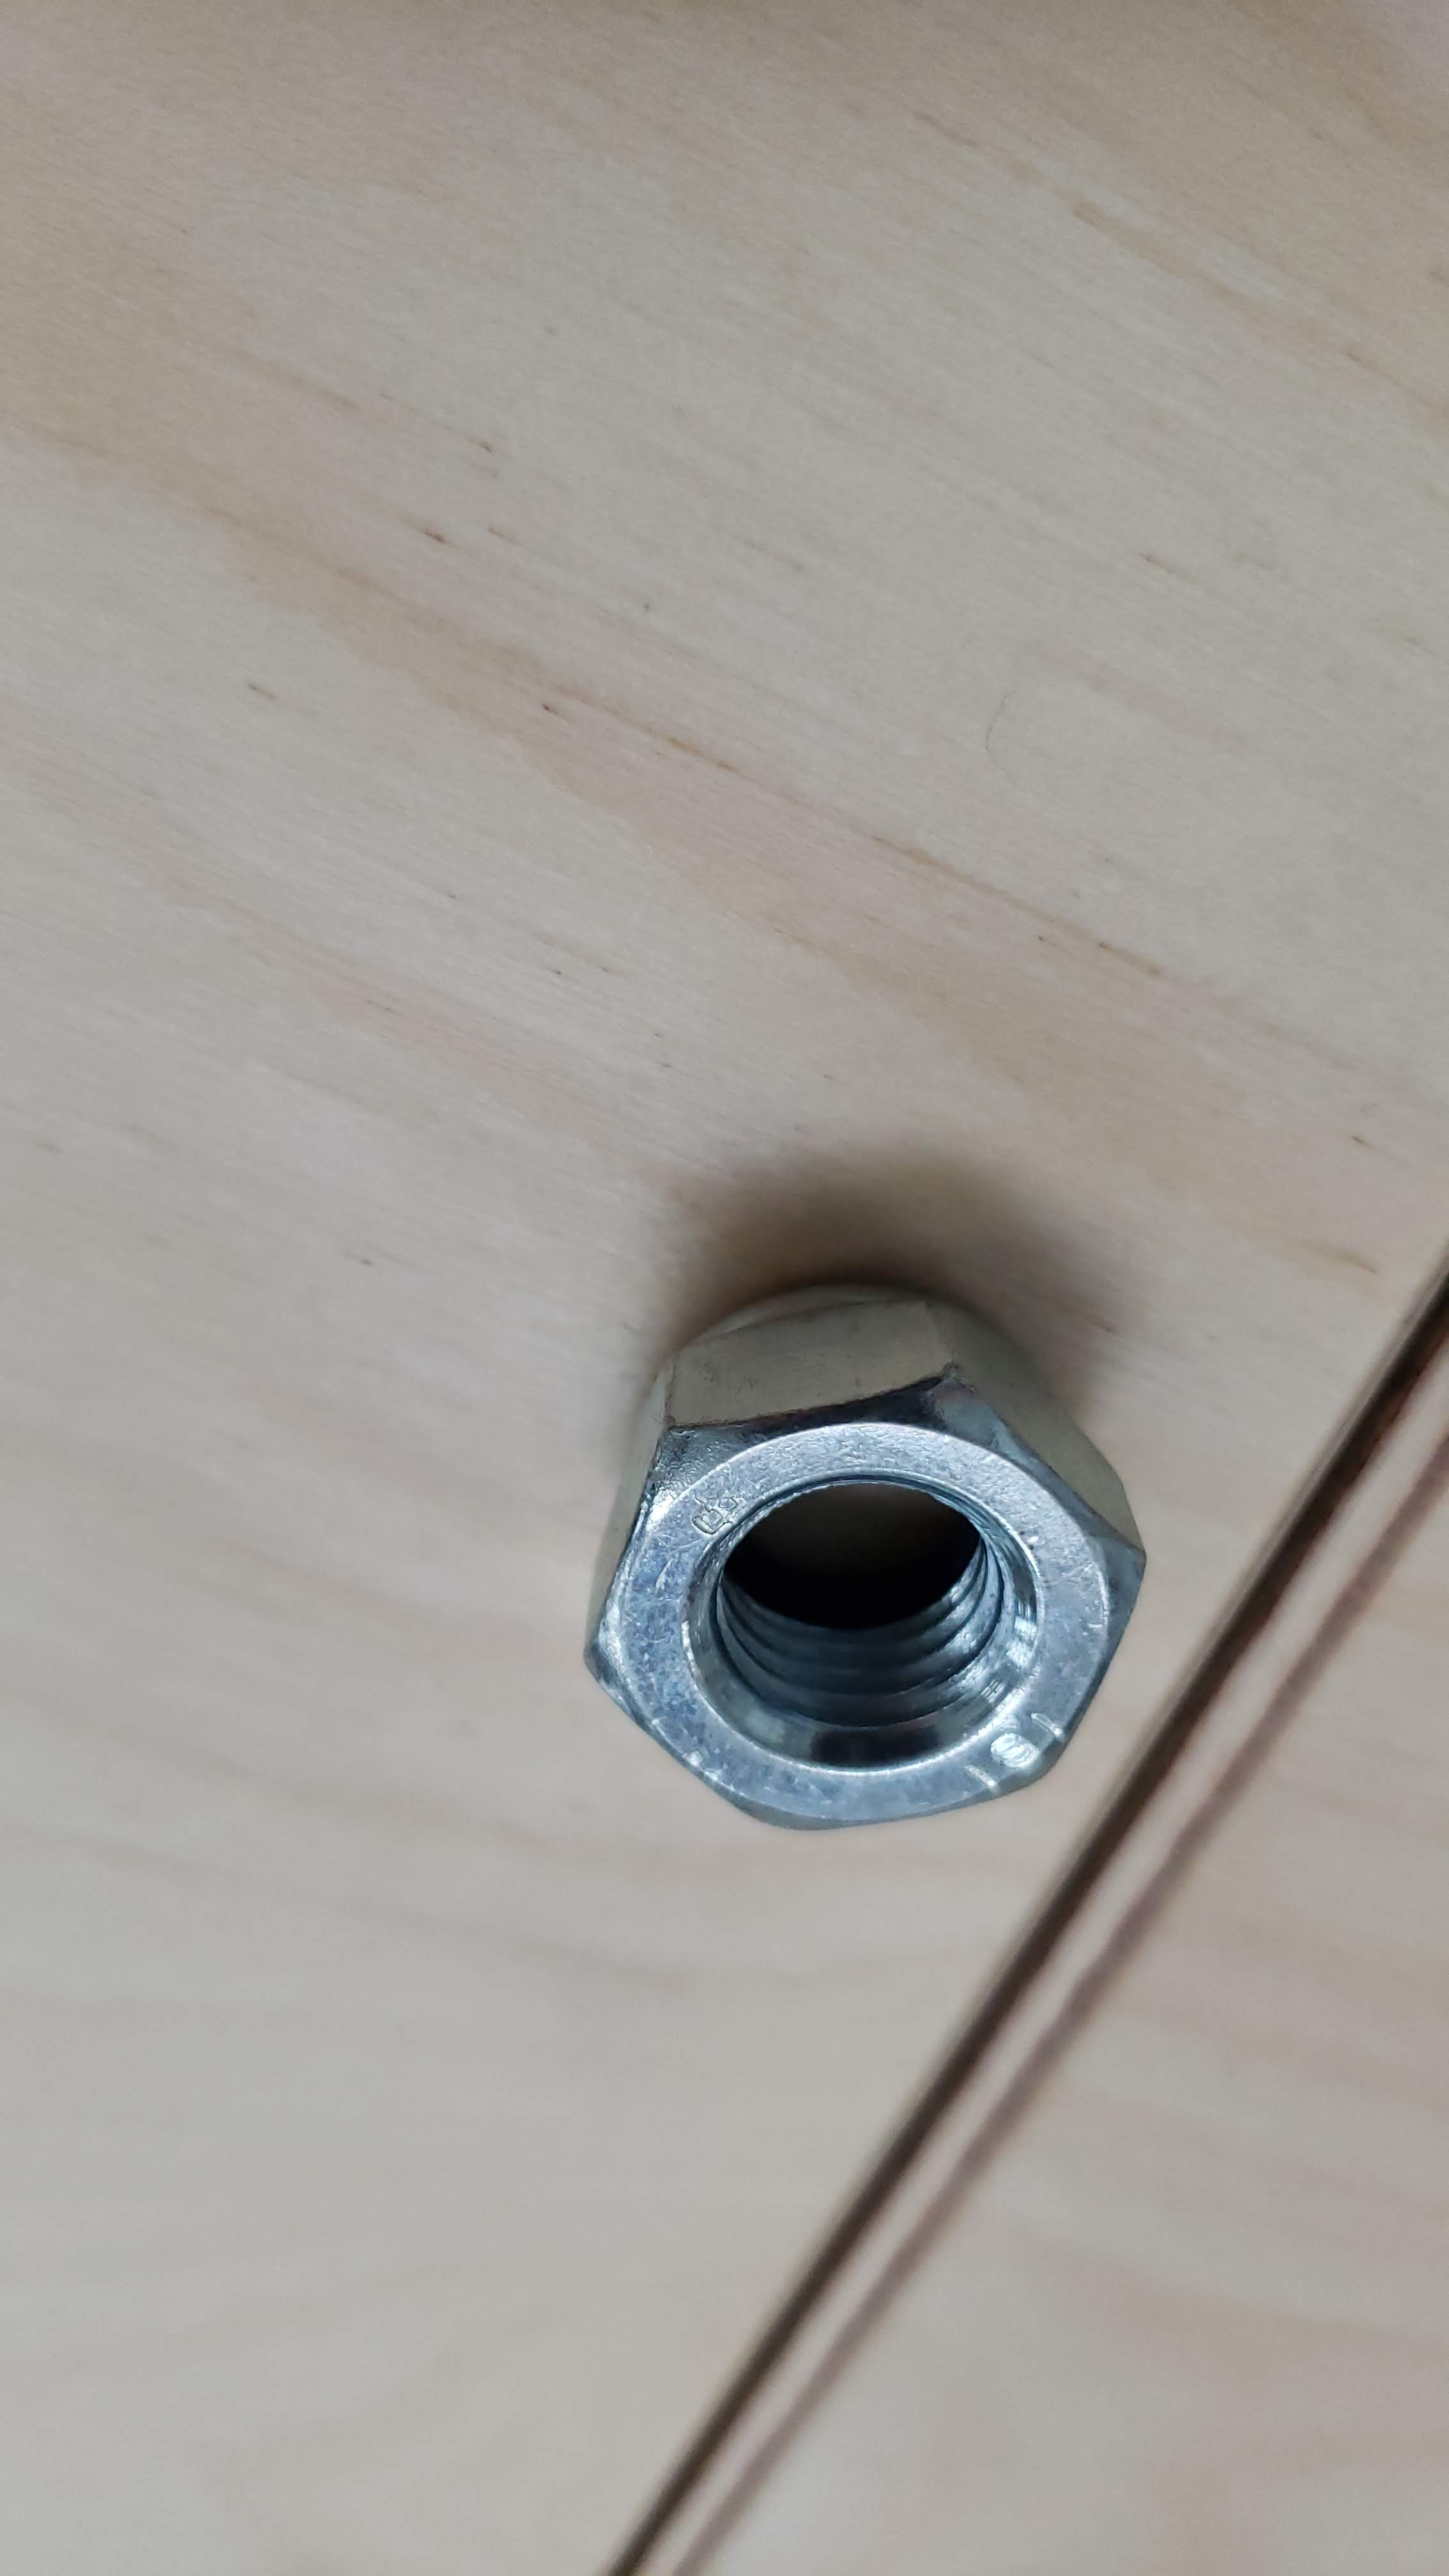Nut: (441, 968, 1341, 2045)
